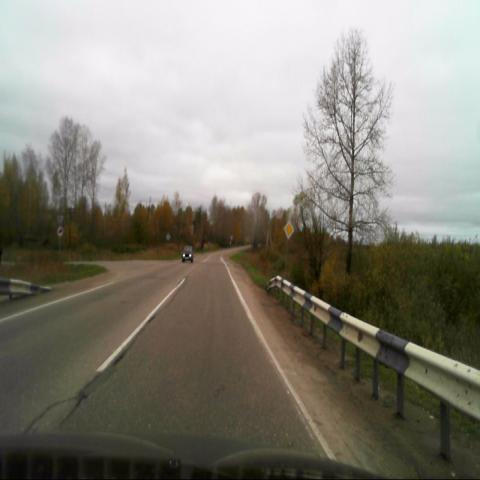2_1: (284, 220, 294, 240)
